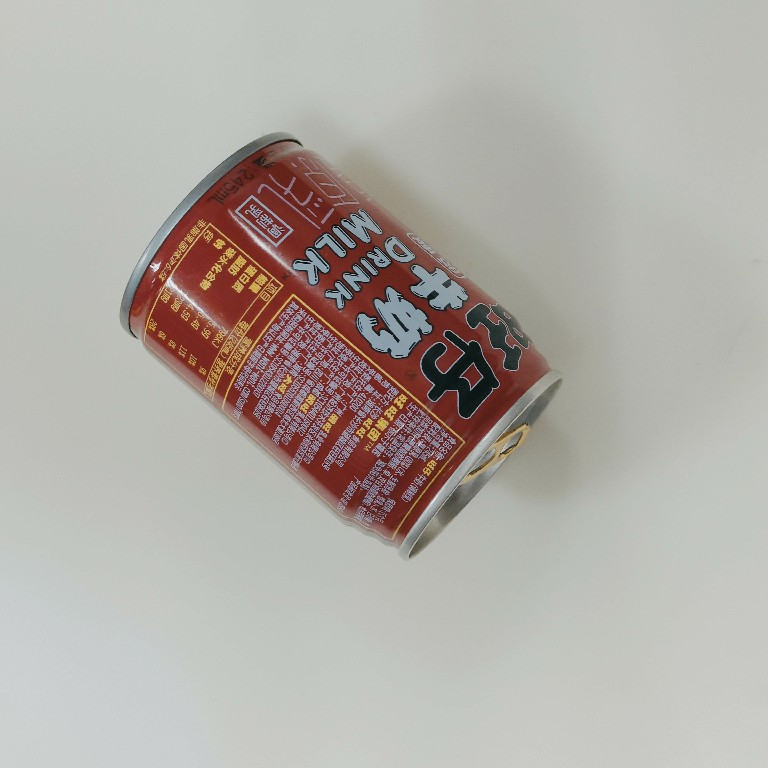can: (116, 129, 566, 563)
